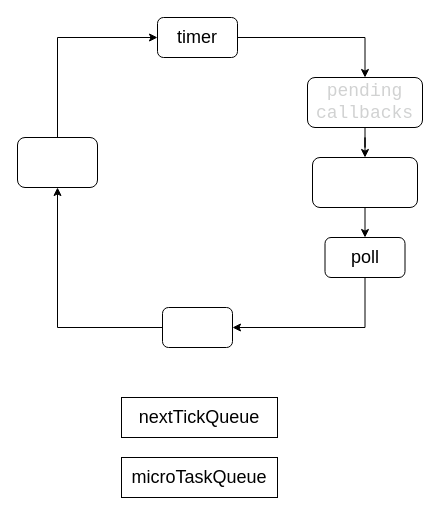
Some shapes in this 440 by 515 pixel diagram are drawn without their labels. Here are the shapes that lost their labels. From the top down, the centre of each, then its label:
point 57,162: close callback
point 365,182: idle , prepare
point 197,327: check
